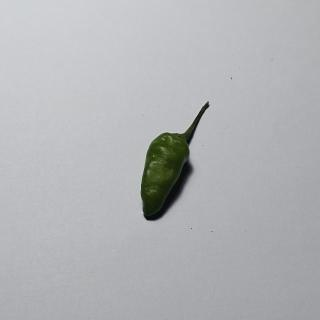Cabai Hijau: (136, 97, 219, 224)
